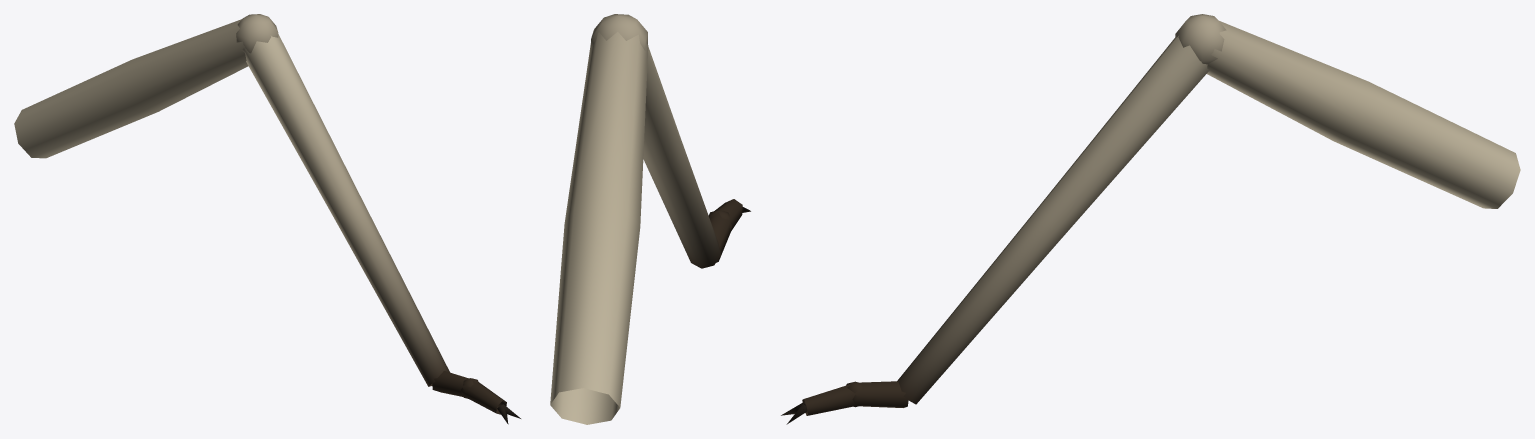
The model's file is Suzumushi_Leg3.fbx.
3 views of the same model, side by side, from view 1: azimuth 30°, elevation 25°; view 2: azimuth 150°, elevation 25°; view 3: azimuth 270°, elevation 25° (orthographic). The views are drawn at different scales.
Parts seen in each view (by area): view 1: Suzumushi_Leg3; view 2: Suzumushi_Leg3; view 3: Suzumushi_Leg3.
Boxes of the visible parts, x1=… form: Suzumushi_Leg3: x1=14, y1=14, x2=520, y2=424; Suzumushi_Leg3: x1=550, y1=14, x2=750, y2=424; Suzumushi_Leg3: x1=781, y1=14, x2=1520, y2=424.
Size of the model in its own units: 0.2146 by 0.2921 by 0.5481.
